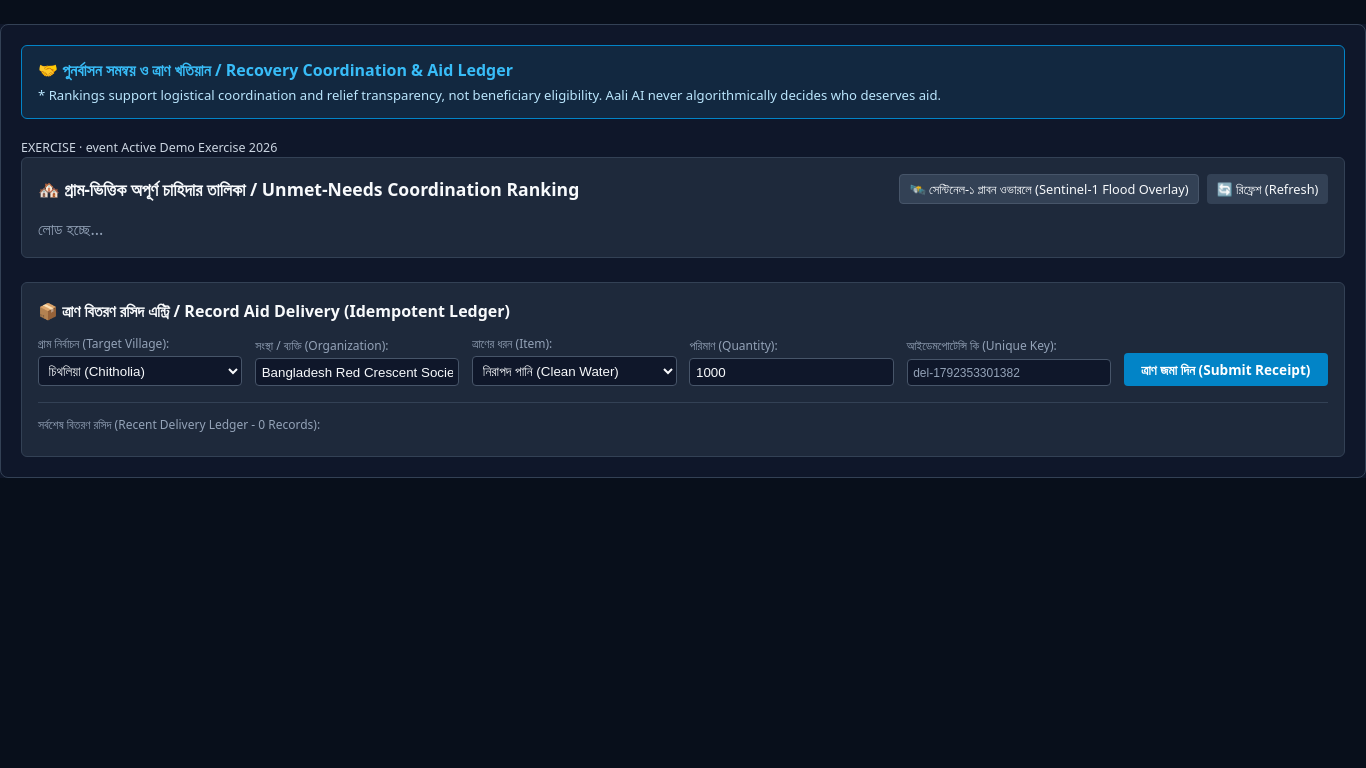
Test: RecoveryLedger Component › toggles Sentinel-1 SAR flood inundation static visual footprint overlay
Click the button "🛰️ সেন্টিনেল-১ প্লাবন ওভারলে (Sentinel-1 Flood Overlay)".
click(1049, 189)  # box [899, 174, 1199, 204]
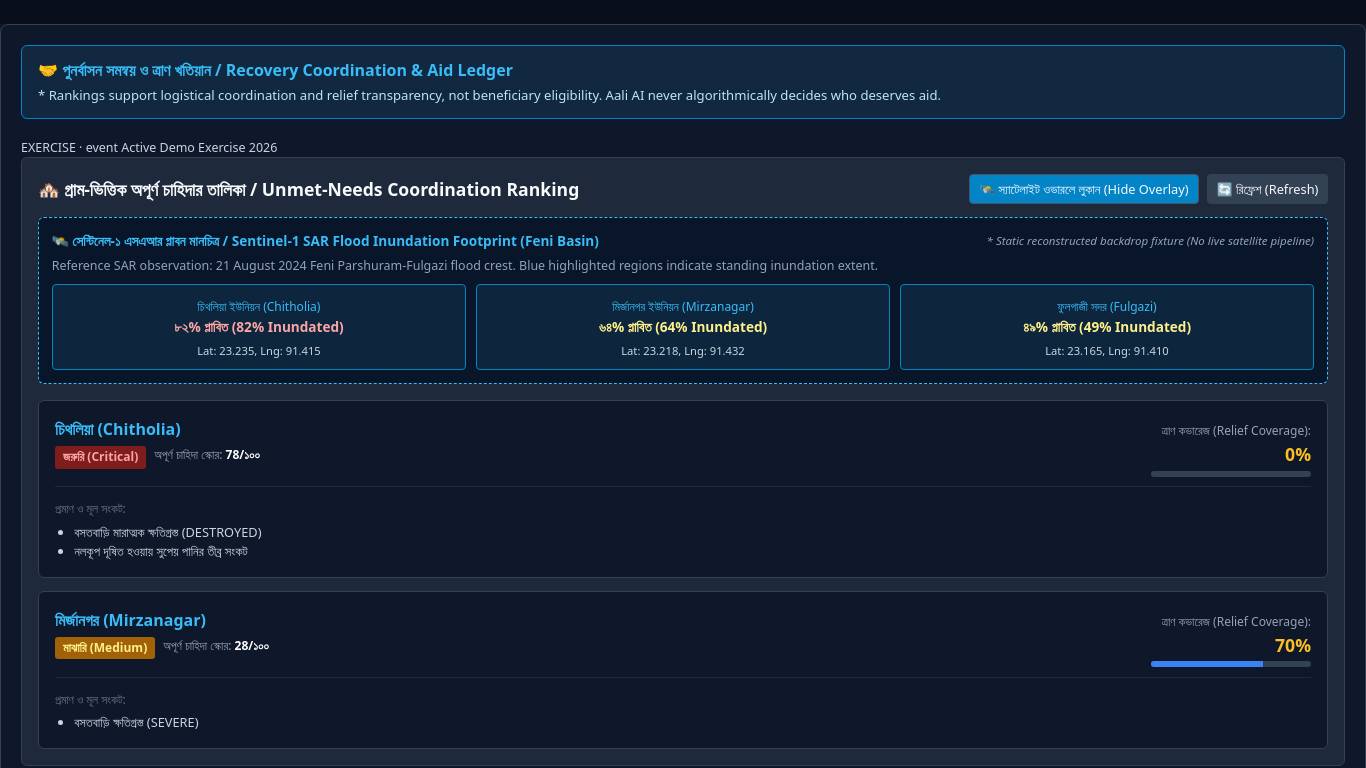
Result: the text "সেন্টিনেল-১ এসএআর প্লাবন মানচিত্র" is shown at [52, 231, 525, 250]
Result: the text "Static reconstructed backdrop fixture (No live satellite pipeline)" is shown at [986, 233, 1314, 248]
